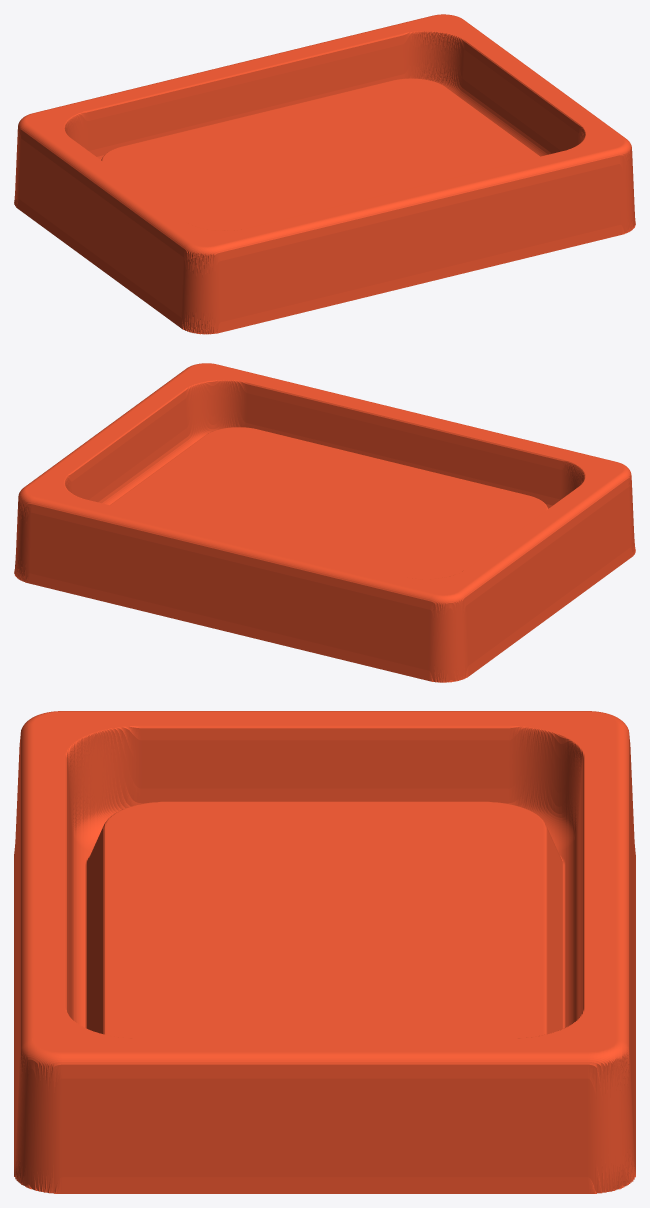
The model's file is mold.glb.
3 views of the same model, one above another, from view 1: azimuth 30°, elevation 25°; view 2: azimuth 150°, elevation 25°; view 3: azimuth 270°, elevation 25° (orthographic). The views are drawn at different scales.
Parts seen in each view (by area): view 1: geometry_0; view 2: geometry_0; view 3: geometry_0.
Boxes of the visible parts, box(x1,y1,x2,y2) form: geometry_0: box(14, 14, 635, 334); geometry_0: box(14, 363, 635, 682); geometry_0: box(14, 711, 635, 1193).
Bounding box in the file's own units: 0.1602 × 0.028 × 0.1182.
